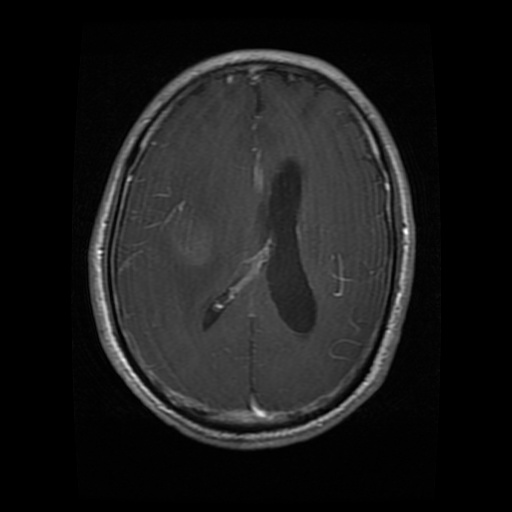glioma: (161, 201, 223, 269)
